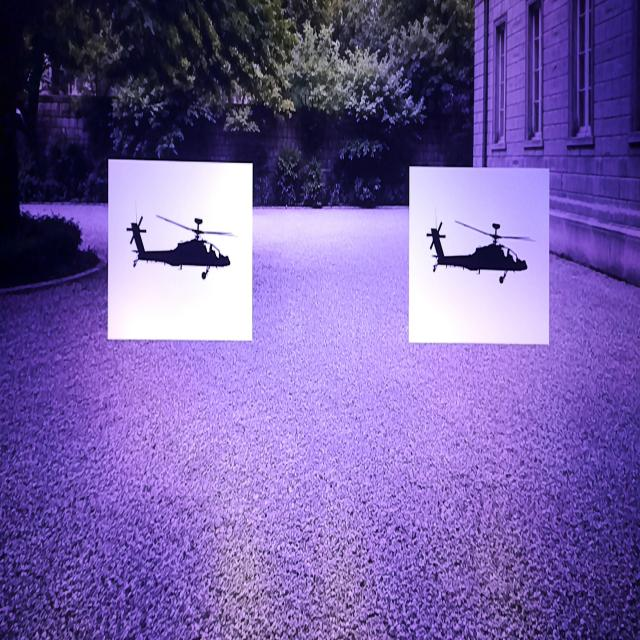Apache friendly: (127, 216, 233, 279), (427, 221, 534, 283)
